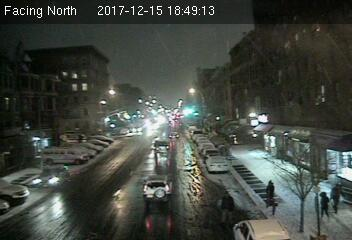car: (233, 216, 292, 240), (142, 174, 172, 205), (33, 166, 70, 187), (206, 155, 230, 172), (152, 137, 172, 156)
pedestrian: (220, 184, 237, 232), (314, 187, 332, 222), (262, 177, 275, 206), (332, 181, 341, 218)
